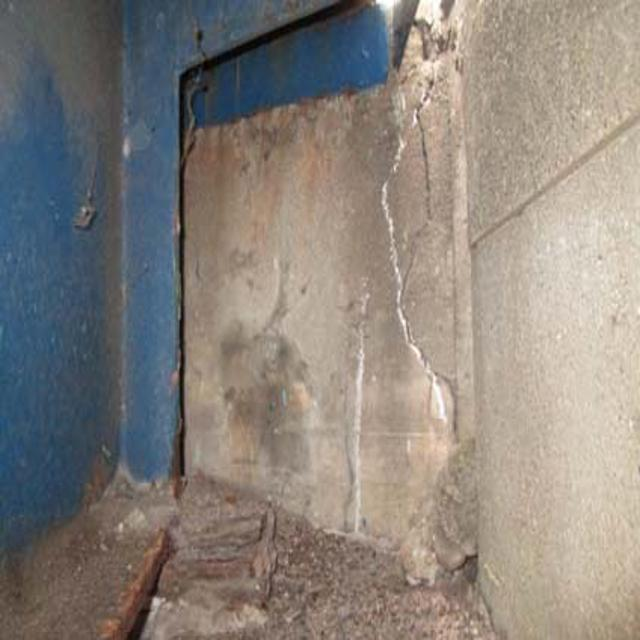corrosion: (54, 458, 193, 628)
crack: (394, 130, 473, 440)
spalling: (383, 23, 497, 116)
